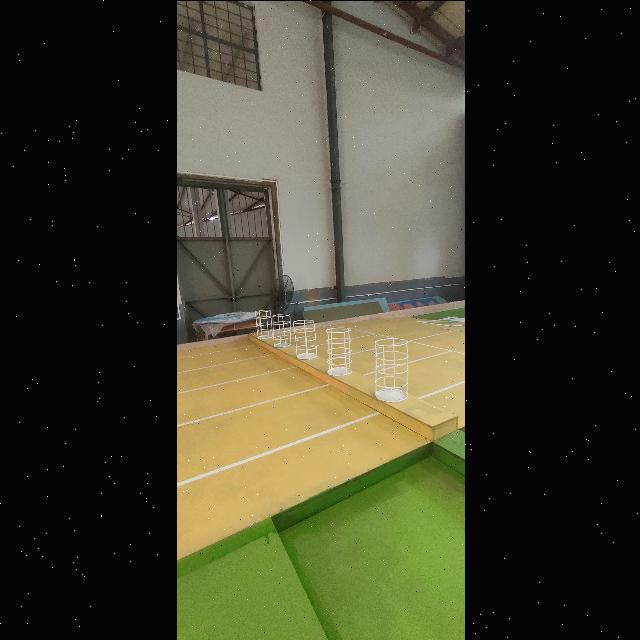S: (374, 338, 408, 400), (326, 326, 352, 376), (292, 317, 318, 358), (272, 313, 292, 347), (254, 308, 272, 338)
